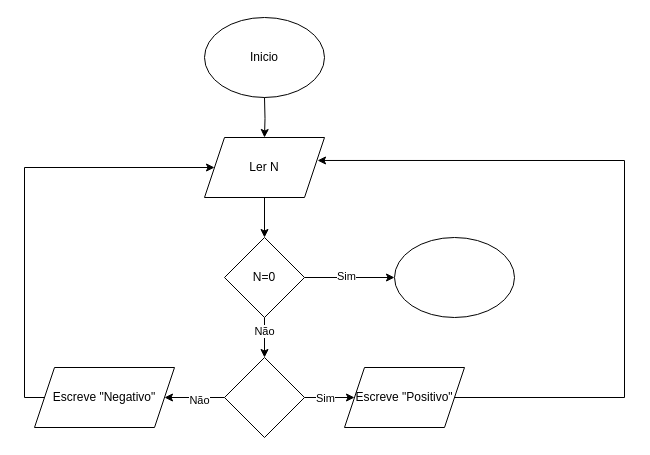
This 650x455 diagram has some shape labels left out. The shapes that lost their labels are listed below. From the top down, each one's centre as x and y in pixels, then its label:
the point at 454,277: Fim
the point at 264,397: N>0
